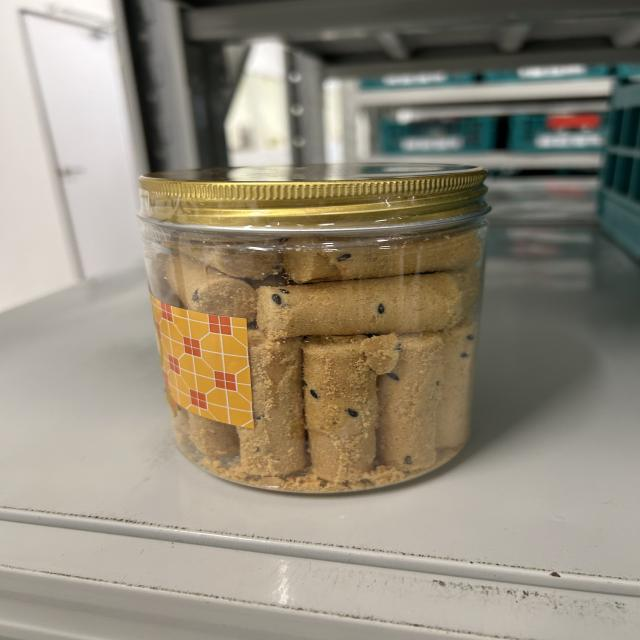object_name: (158, 184, 468, 471)
